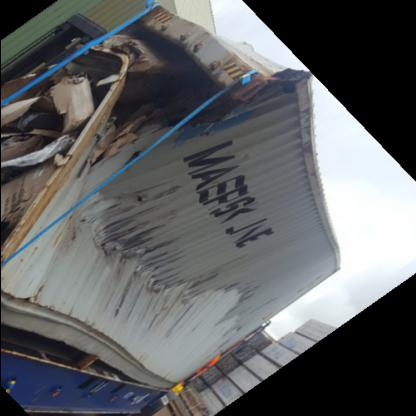Damage: (1, 17, 307, 369)
